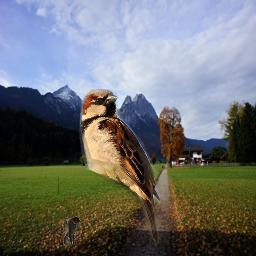Swallow: (79, 89, 160, 245), (63, 217, 81, 246)
